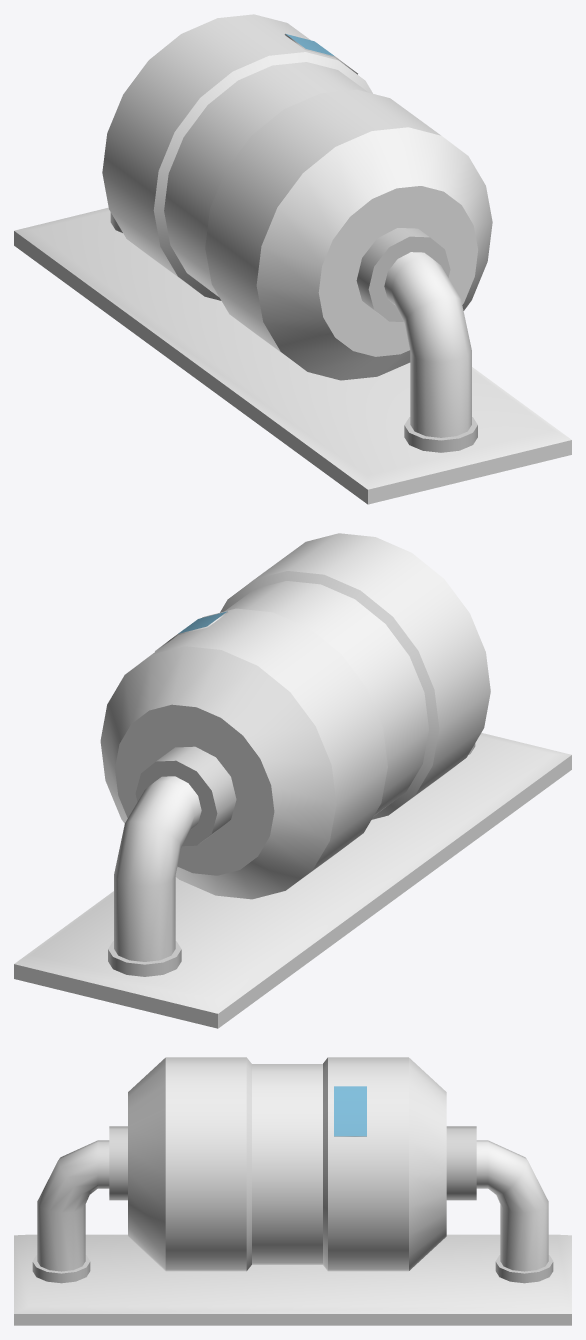
The model's file is WaterTank_Floor.fbx.
The picture shows the model from 3 angles, top to bottom: view 1: azimuth 30°, elevation 25°; view 2: azimuth 150°, elevation 25°; view 3: azimuth 270°, elevation 25°; orthographic projection. The views are drawn at different scales.
Visible parts, largest first — view 1: WaterTank_Floor; view 2: WaterTank_Floor; view 3: WaterTank_Floor.
Part boxes in pixels (bbox=[...]): WaterTank_Floor: bbox=[14, 14, 571, 504]; WaterTank_Floor: bbox=[14, 533, 571, 1028]; WaterTank_Floor: bbox=[14, 1057, 571, 1325].
Size of the model in its own units: 1.76 by 1.99 by 4.57.
